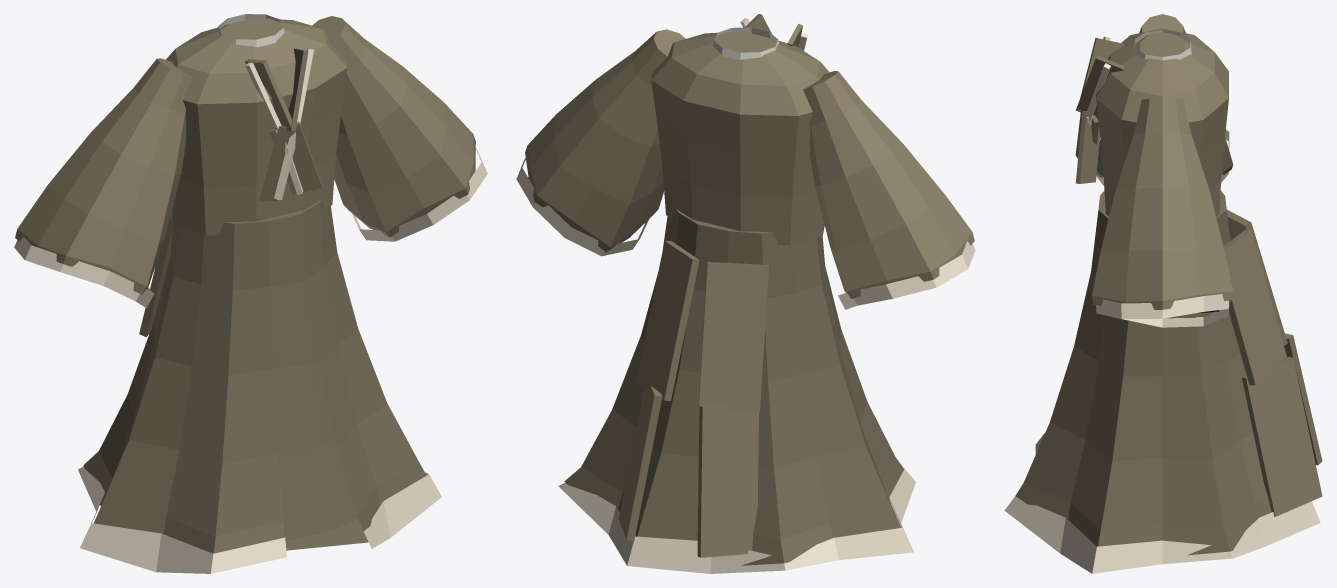
Rendered from gear_dopo_t1.glb.
3 renders of one model, left to right at view 1: azimuth 30°, elevation 25°; view 2: azimuth 150°, elevation 25°; view 3: azimuth 270°, elevation 25°, orthographic. The views are drawn at different scales.
Parts seen in each view (by area): view 1: gear_dopo_t1; view 2: gear_dopo_t1; view 3: gear_dopo_t1.
Part boxes in pixels (box(x1,y1,x2,y2)): gear_dopo_t1: box(14, 14, 487, 573); gear_dopo_t1: box(516, 14, 975, 573); gear_dopo_t1: box(1004, 14, 1322, 573).
Bounding box in the file's own units: 1.42 × 1.48 × 0.9051.
